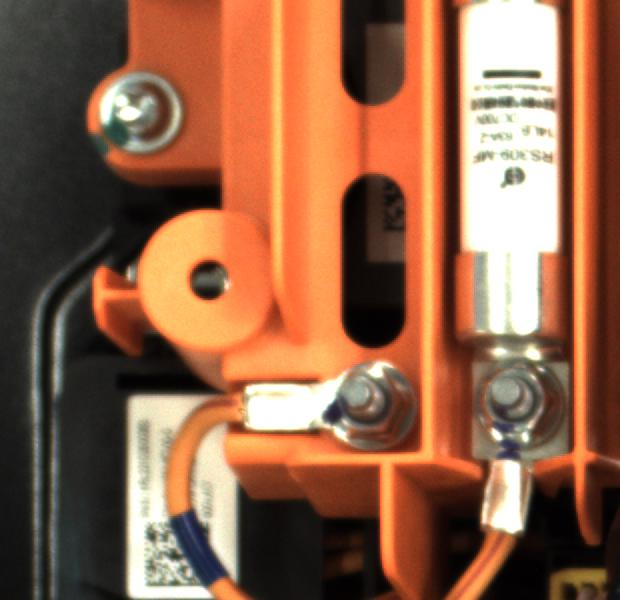screw_m: (90, 62, 191, 167)
screw_s: (462, 360, 568, 456), (314, 361, 415, 449)
